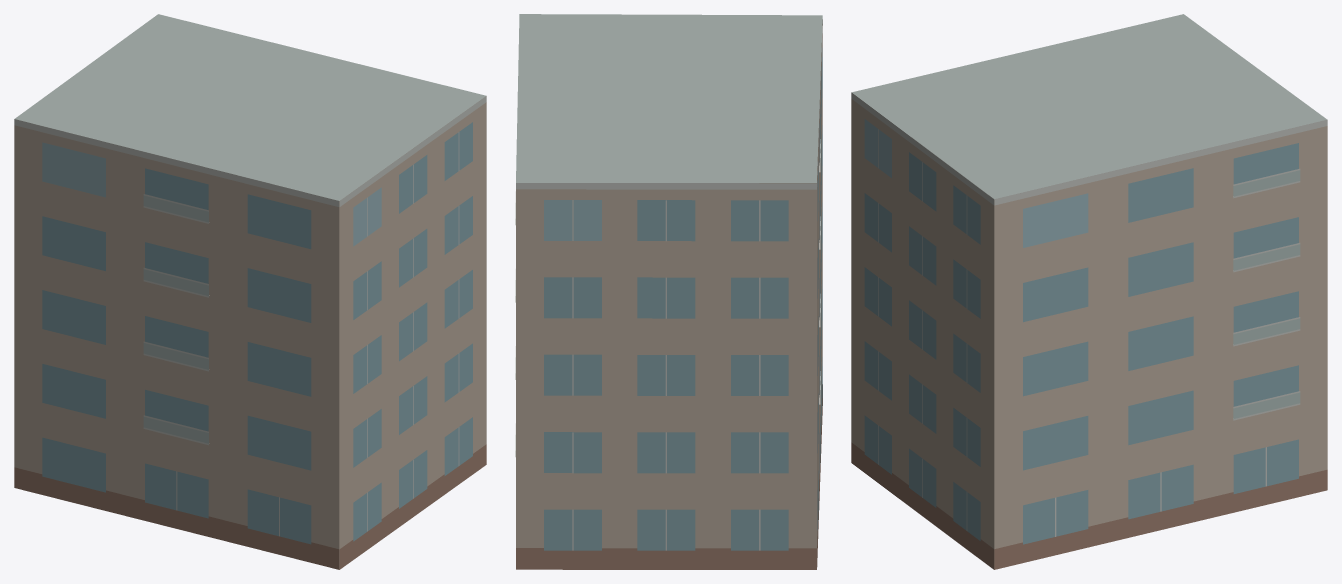
File: survey-upis-32714511.glb
3 renders of one model, left to right at view 1: azimuth 30°, elevation 25°; view 2: azimuth 150°, elevation 25°; view 3: azimuth 270°, elevation 25°, orthographic. The views are drawn at different scales.
Parts seen in each view (by area): view 1: survey-upis-32714511.tmp; view 2: survey-upis-32714511.tmp; view 3: survey-upis-32714511.tmp.
Part boxes in pixels (<box>): survey-upis-32714511.tmp: <box>14,14,486,569</box>; survey-upis-32714511.tmp: <box>515,14,822,569</box>; survey-upis-32714511.tmp: <box>851,14,1327,569</box>.
Size of the model in its own units: 15.45 by 14.4 by 16.78.
